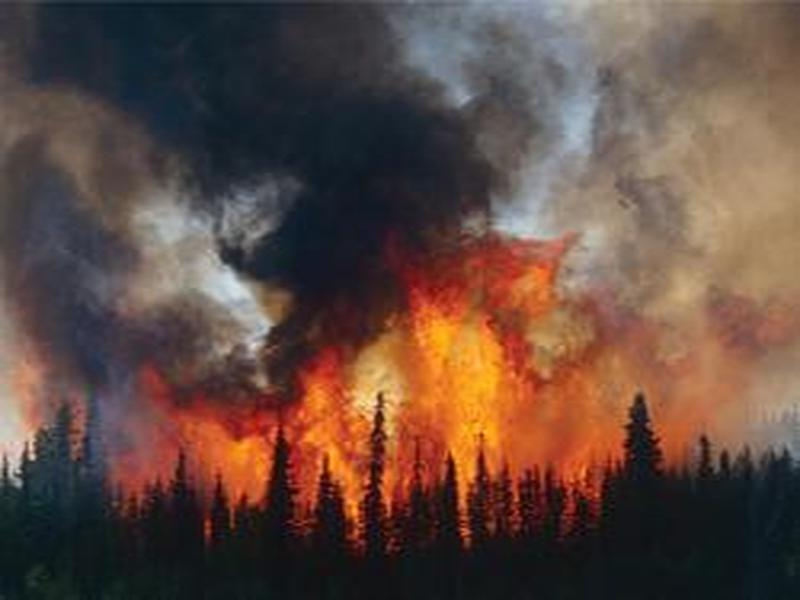FIRE: (39, 229, 745, 568)
